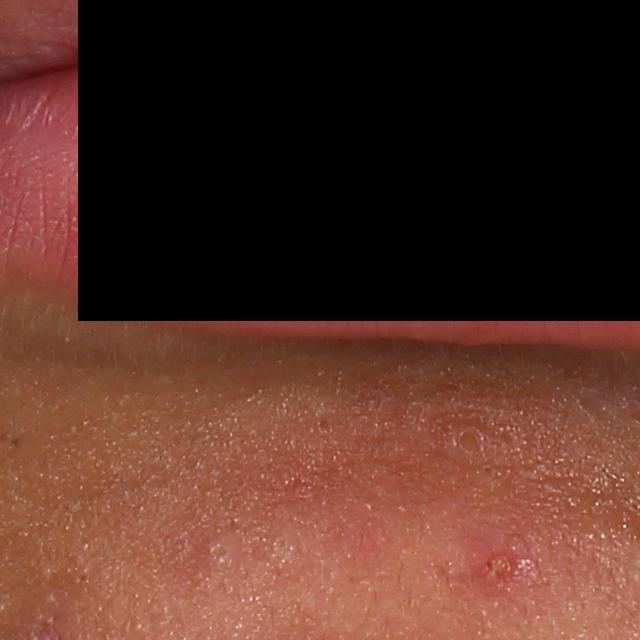comedo: (311, 410, 341, 438)
